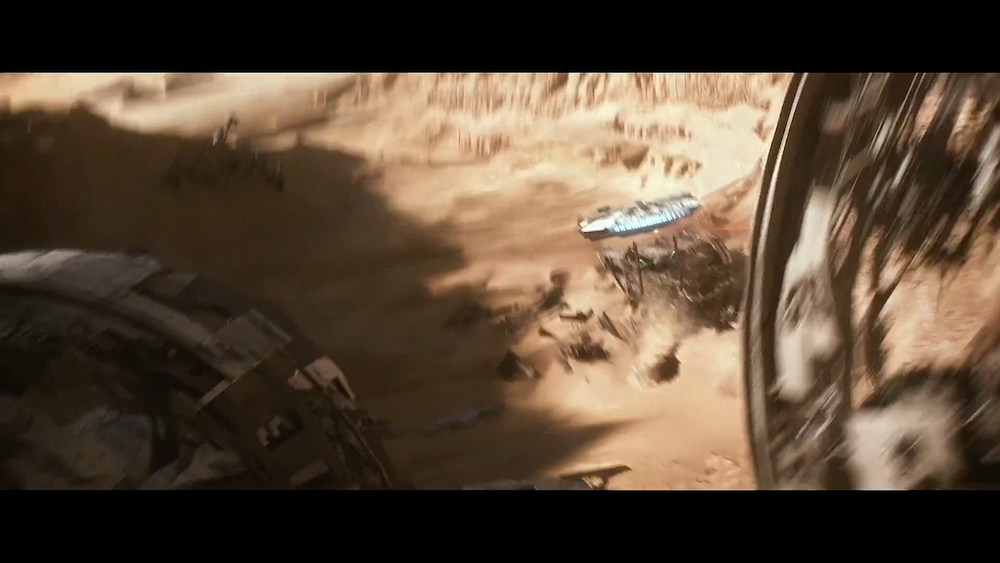Millennium Falcon: (578, 192, 702, 243)
Tie Fighter: (633, 235, 685, 298)
